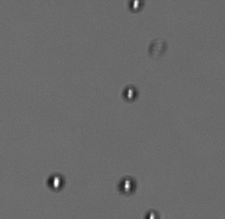Dead Cell: (148, 37, 168, 58)
Living Cell: (118, 175, 136, 195), (47, 173, 65, 191), (125, 1, 146, 13), (122, 85, 137, 101)
